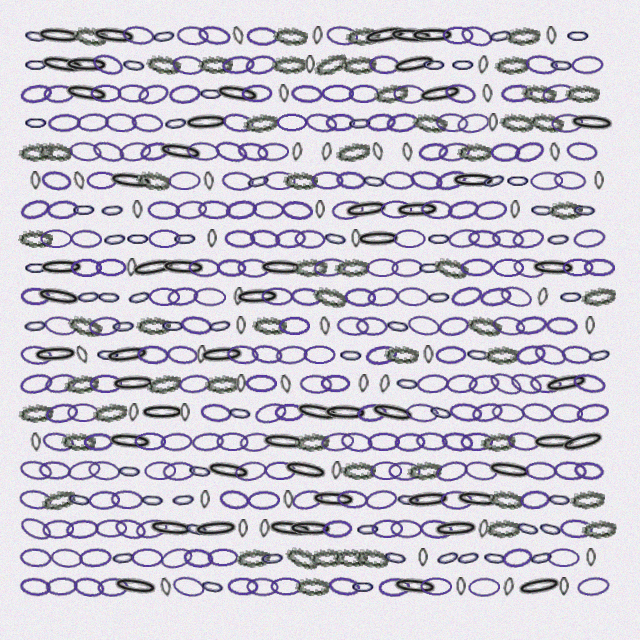chain: (558, 427, 608, 457), (368, 399, 417, 427), (361, 22, 410, 49), (390, 51, 439, 78), (542, 370, 591, 397), (293, 399, 342, 426), (281, 457, 330, 484), (515, 573, 564, 600), (38, 52, 87, 78), (213, 81, 262, 107), (416, 81, 465, 107), (156, 139, 205, 165), (129, 255, 178, 281), (34, 284, 83, 310), (204, 458, 253, 484), (62, 81, 111, 106), (342, 197, 391, 222), (485, 458, 534, 483), (111, 574, 160, 599), (311, 49, 350, 80), (103, 343, 152, 367), (90, 24, 138, 48), (107, 169, 155, 193), (266, 517, 314, 541), (487, 369, 524, 399), (17, 514, 54, 544), (106, 430, 154, 453), (454, 488, 502, 511), (147, 517, 195, 540), (391, 575, 439, 598), (39, 486, 78, 514), (283, 544, 322, 572), (35, 25, 83, 47), (387, 25, 435, 47), (568, 112, 616, 134), (198, 344, 246, 366), (260, 431, 308, 453), (404, 489, 452, 511), (192, 518, 240, 540), (432, 518, 480, 540), (90, 138, 127, 166), (508, 370, 544, 398), (532, 341, 569, 368), (334, 139, 372, 165), (432, 255, 470, 281), (311, 284, 349, 310), (66, 313, 104, 339), (145, 371, 183, 397), (183, 112, 230, 133), (160, 257, 207, 278), (32, 344, 79, 365), (110, 373, 157, 394), (310, 489, 357, 510), (90, 51, 126, 78), (213, 138, 249, 165), (433, 167, 469, 194), (498, 283, 534, 310), (372, 81, 410, 106), (91, 400, 129, 425), (512, 138, 547, 165), (18, 196, 53, 223), (449, 283, 484, 310), (63, 55, 110, 75), (394, 200, 441, 220), (355, 229, 402, 249), (258, 258, 305, 278), (530, 258, 577, 278), (234, 287, 281, 307), (322, 403, 369, 423), (531, 432, 578, 452), (287, 519, 334, 539), (434, 458, 470, 484), (580, 284, 617, 309), (459, 23, 494, 49), (136, 81, 171, 107), (253, 400, 288, 426), (113, 516, 148, 542), (159, 545, 194, 571), (196, 23, 232, 48), (408, 168, 444, 193), (406, 313, 442, 338), (18, 371, 54, 396), (571, 371, 607, 396), (18, 458, 54, 483), (66, 458, 102, 483), (409, 26, 456, 45), (450, 171, 497, 190), (38, 258, 85, 277), (139, 403, 186, 422), (242, 111, 279, 135), (466, 314, 503, 338), (63, 372, 100, 396), (443, 81, 478, 106), (43, 371, 78, 396), (470, 400, 505, 425), (290, 487, 325, 512), (171, 574, 206, 599), (145, 53, 182, 76), (528, 111, 565, 134), (135, 169, 172, 192), (406, 459, 443, 482), (569, 488, 606, 511), (138, 139, 172, 164), (514, 342, 548, 367), (456, 111, 491, 135), (437, 140, 472, 164), (478, 285, 513, 309), (43, 314, 78, 338), (491, 314, 526, 338), (44, 401, 79, 425), (575, 401, 610, 425), (339, 430, 374, 454), (233, 459, 268, 483), (463, 459, 498, 483), (134, 517, 169, 541), (19, 82, 53, 106), (221, 111, 255, 135), (304, 111, 338, 135), (236, 140, 270, 164), (446, 198, 480, 222), (248, 227, 282, 251), (512, 256, 546, 280), (437, 314, 471, 338), (364, 343, 398, 367), (467, 372, 501, 396), (41, 430, 75, 454), (72, 575, 106, 599), (121, 24, 156, 47), (524, 53, 559, 76), (68, 140, 103, 163), (572, 227, 607, 250), (448, 401, 483, 424), (506, 430, 541, 453), (18, 488, 53, 511), (576, 575, 611, 598), (72, 25, 108, 47), (345, 25, 381, 47), (505, 25, 541, 47), (341, 54, 377, 76), (494, 54, 530, 76), (412, 112, 448, 134), (18, 141, 54, 163), (204, 373, 240, 395), (18, 402, 54, 424), (294, 431, 330, 453), (480, 431, 516, 453), (581, 518, 617, 540), (235, 547, 271, 569), (354, 547, 390, 569), (325, 24, 359, 47), (244, 53, 278, 76), (541, 82, 575, 105), (385, 111, 419, 134), (118, 140, 152, 163), (565, 140, 599, 163), (224, 198, 258, 221), (447, 227, 481, 250), (511, 227, 545, 250), (166, 285, 200, 308), (366, 285, 400, 308), (179, 314, 213, 337), (514, 314, 548, 337), (250, 343, 284, 366), (520, 401, 554, 424), (440, 430, 474, 453), (87, 459, 121, 482), (364, 488, 398, 511), (327, 575, 361, 598), (473, 199, 508, 221), (320, 431, 355, 453), (40, 169, 73, 192), (218, 488, 251, 511), (501, 546, 534, 569), (271, 54, 307, 75), (521, 83, 557, 104), (499, 112, 535, 133), (37, 141, 73, 162), (292, 257, 328, 278), (334, 257, 370, 278), (488, 489, 524, 510), (485, 518, 521, 539), (309, 547, 345, 568), (479, 168, 509, 193), (426, 400, 456, 425), (513, 516, 543, 541), (433, 545, 463, 570), (171, 54, 205, 76), (221, 54, 255, 76), (130, 112, 164, 134), (174, 199, 208, 221), (280, 199, 314, 221), (467, 228, 501, 250), (491, 228, 525, 250), (336, 315, 370, 337), (19, 344, 53, 366), (560, 344, 594, 366), (199, 402, 233, 424), (405, 402, 439, 424), (491, 402, 525, 424), (191, 431, 225, 453), (65, 518, 99, 540), (419, 518, 453, 540), (168, 83, 201, 105), (417, 141, 450, 163), (221, 170, 254, 192), (331, 199, 364, 221), (290, 286, 323, 308), (88, 315, 121, 337), (166, 344, 199, 366), (275, 344, 308, 366), (178, 373, 211, 395), (239, 431, 272, 453), (50, 547, 83, 569), (182, 547, 215, 569), (19, 576, 52, 598), (76, 112, 110, 133), (104, 112, 138, 133), (435, 112, 469, 133), (186, 141, 220, 162), (382, 170, 416, 191), (553, 170, 587, 191), (197, 199, 231, 220), (313, 257, 347, 278), (396, 286, 430, 307), (38, 460, 72, 481), (553, 460, 587, 481), (110, 489, 144, 510), (559, 518, 593, 539), (78, 547, 112, 568), (356, 402, 388, 424), (573, 460, 605, 482), (273, 26, 308, 46), (457, 142, 492, 162), (548, 200, 583, 220), (484, 345, 519, 365), (244, 169, 273, 193), (125, 285, 154, 309), (585, 343, 614, 367), (182, 517, 211, 541), (536, 517, 565, 541), (176, 25, 209, 46), (368, 54, 401, 75), (500, 83, 533, 104), (46, 199, 79, 220), (420, 199, 453, 220), (274, 228, 307, 249), (136, 344, 169, 365), (226, 344, 259, 365), (416, 373, 449, 394), (445, 373, 478, 394), (529, 373, 562, 394), (415, 431, 448, 452), (336, 489, 369, 510), (19, 547, 52, 568), (45, 576, 78, 597), (47, 113, 81, 133), (299, 374, 333, 394), (162, 461, 196, 481), (365, 112, 397, 133), (335, 170, 367, 191), (519, 489, 551, 510), (486, 24, 515, 47), (321, 227, 350, 250), (65, 488, 94, 511), (381, 546, 410, 569), (454, 546, 483, 569), (527, 546, 556, 569), (198, 575, 227, 598), (198, 55, 233, 74), (565, 84, 600, 103), (283, 171, 318, 190), (18, 229, 53, 248), (136, 316, 171, 335), (252, 316, 287, 335), (384, 345, 419, 364), (61, 432, 96, 451), (341, 461, 376, 480), (333, 548, 368, 567), (295, 577, 330, 596), (571, 55, 604, 75), (290, 84, 323, 104), (393, 84, 426, 104), (530, 171, 563, 191), (147, 200, 180, 220), (237, 258, 270, 278), (193, 287, 226, 307), (355, 316, 388, 336), (545, 316, 578, 336), (160, 432, 193, 452), (388, 461, 421, 481), (524, 461, 557, 481), (247, 490, 280, 510), (440, 490, 473, 510), (246, 577, 279, 597), (206, 314, 234, 337), (246, 26, 278, 46), (43, 84, 75, 104), (551, 113, 583, 133), (257, 142, 289, 162), (252, 200, 284, 220), (70, 229, 102, 249), (224, 229, 256, 249), (294, 229, 326, 249), (188, 258, 220, 278), (391, 258, 423, 278), (344, 287, 376, 307), (435, 345, 467, 365), (551, 403, 583, 423), (394, 432, 426, 452), (88, 490, 120, 510), (42, 519, 74, 539), (390, 519, 422, 539), (97, 577, 129, 597), (378, 577, 410, 597), (468, 577, 500, 597), (321, 84, 354, 103), (168, 171, 201, 190), (263, 171, 296, 190), (311, 171, 344, 190), (148, 229, 181, 248), (393, 229, 426, 248), (366, 258, 399, 277), (460, 258, 493, 277), (303, 345, 336, 364), (89, 374, 122, 393), (216, 432, 249, 451), (367, 432, 400, 451), (460, 432, 493, 451), (547, 548, 580, 567), (270, 577, 303, 596), (490, 142, 521, 162), (216, 258, 247, 278), (83, 432, 114, 452), (322, 519, 353, 539), (22, 25, 50, 47), (150, 25, 178, 47), (120, 54, 148, 76), (162, 112, 190, 134), (360, 170, 388, 192), (101, 228, 129, 250), (384, 315, 412, 337), (226, 402, 254, 424), (186, 460, 214, 482), (481, 547, 509, 569), (442, 26, 474, 45), (90, 84, 122, 103), (117, 84, 149, 103), (241, 84, 273, 103), (348, 84, 380, 103), (276, 113, 308, 132), (86, 171, 118, 190), (380, 200, 412, 219), (40, 229, 72, 248), (70, 258, 102, 277), (95, 258, 127, 277), (492, 258, 524, 277), (562, 258, 594, 277), (583, 258, 615, 277), (148, 287, 180, 306), (261, 287, 293, 306), (278, 316, 310, 335), (245, 374, 277, 393), (67, 403, 99, 422), (134, 432, 166, 451), (144, 461, 176, 480), (264, 461, 296, 480), (370, 461, 402, 480), (95, 519, 127, 538), (371, 519, 403, 538), (131, 548, 163, 567), (207, 548, 239, 567), (227, 577, 259, 596), (420, 577, 452, 596), (325, 113, 356, 132), (20, 287, 51, 306), (320, 374, 351, 393), (274, 403, 305, 422), (464, 344, 492, 365), (75, 286, 102, 307), (22, 315, 49, 336), (394, 373, 421, 394), (170, 489, 197, 510), (395, 489, 422, 510), (546, 489, 573, 510), (110, 547, 137, 568), (548, 55, 575, 75), (99, 200, 126, 220), (571, 200, 598, 220), (545, 229, 572, 249), (110, 316, 137, 336), (116, 461, 143, 481), (139, 490, 166, 510), (259, 548, 286, 568), (347, 113, 373, 133), (529, 200, 555, 220), (96, 287, 122, 307), (426, 287, 452, 307), (338, 345, 364, 365), (355, 519, 381, 539), (565, 26, 591, 45), (23, 55, 49, 74), (421, 55, 447, 74), (450, 55, 476, 74), (198, 84, 224, 103), (23, 113, 49, 132), (505, 171, 531, 190), (71, 200, 97, 219), (125, 229, 151, 248), (172, 229, 198, 248), (426, 229, 452, 248), (23, 258, 49, 277), (417, 258, 443, 277), (558, 287, 584, 306), (160, 316, 186, 335), (95, 345, 121, 364), (350, 577, 376, 596), (74, 344, 91, 365), (231, 25, 246, 46), (72, 170, 87, 191), (371, 141, 385, 162), (279, 374, 293, 394), (159, 577, 173, 597), (320, 142, 333, 162), (401, 142, 414, 162), (536, 287, 549, 307), (378, 374, 391, 394), (477, 519, 490, 539), (502, 577, 515, 597), (477, 55, 489, 75), (291, 142, 303, 162), (549, 142, 561, 162), (203, 171, 215, 191), (319, 316, 331, 336), (30, 432, 42, 452), (278, 84, 290, 103), (312, 26, 323, 45), (546, 26, 557, 45), (482, 84, 493, 103), (30, 171, 41, 190), (132, 200, 143, 219), (126, 258, 137, 277), (233, 287, 244, 306), (196, 345, 207, 364), (423, 345, 434, 364), (358, 374, 369, 393), (128, 403, 139, 422), (331, 461, 342, 480), (283, 490, 294, 509), (259, 519, 270, 538), (305, 55, 315, 74), (488, 113, 498, 132), (594, 171, 604, 190), (315, 200, 325, 219), (510, 200, 520, 219), (207, 229, 217, 248), (351, 229, 361, 248), (236, 316, 246, 335), (585, 316, 595, 335), (236, 374, 246, 393), (180, 403, 190, 422), (200, 490, 210, 509), (238, 519, 248, 538), (418, 548, 428, 567), (586, 548, 596, 567), (456, 577, 466, 596), (559, 577, 569, 596)
